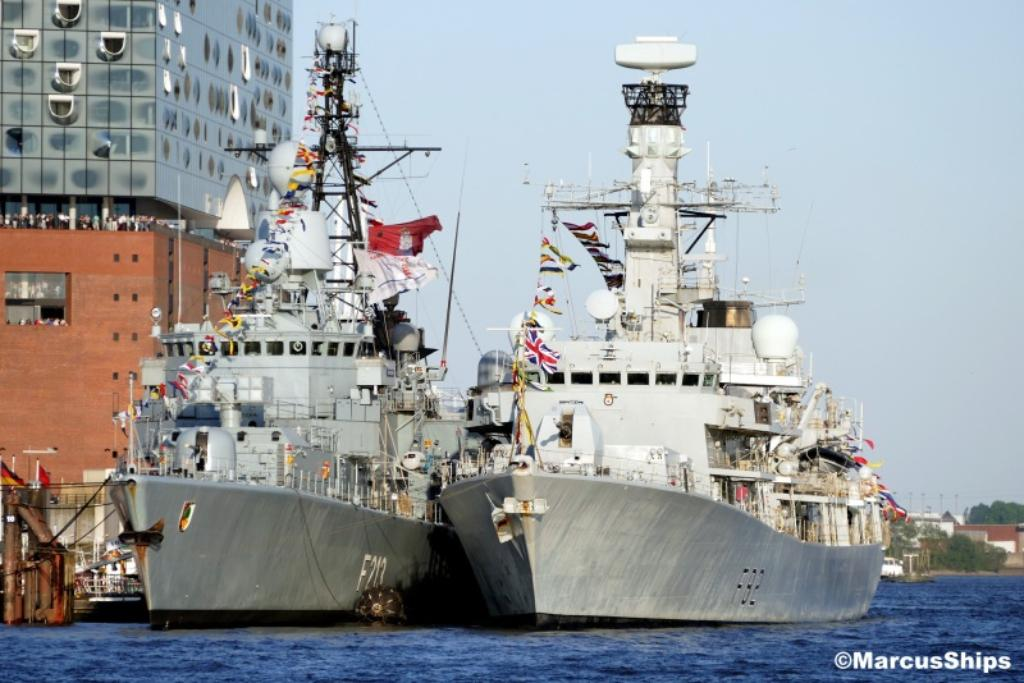Warship: (439, 2, 899, 626), (97, 2, 455, 636)
